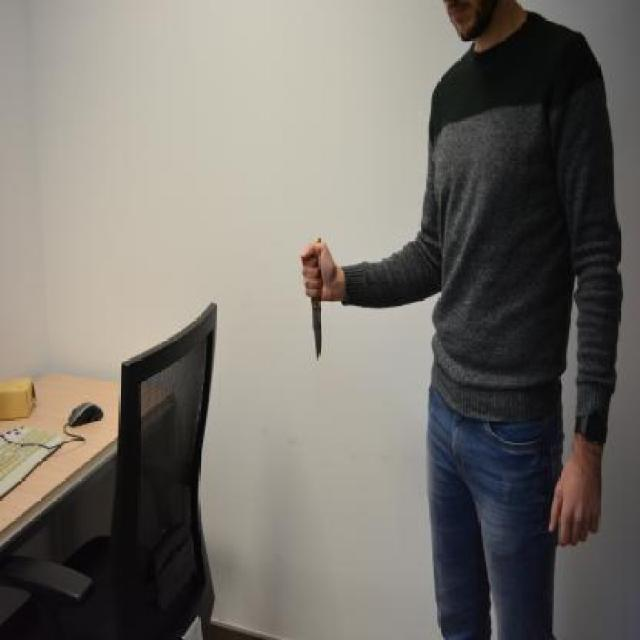-: (308, 234, 326, 365)
